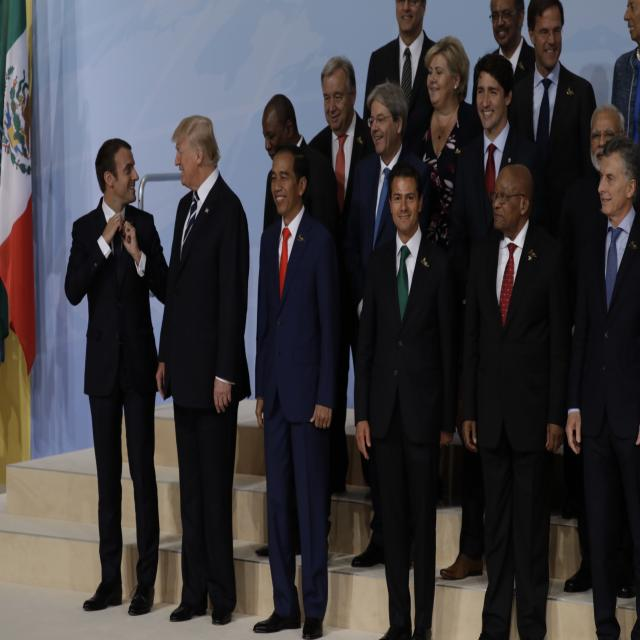body: (453, 160, 576, 640), (438, 49, 548, 584), (60, 133, 176, 618), (246, 140, 348, 640), (353, 161, 458, 640), (155, 115, 251, 624), (343, 81, 434, 570), (561, 126, 640, 640), (253, 93, 339, 559), (560, 102, 637, 600), (308, 54, 377, 499), (506, 1, 599, 220), (406, 36, 482, 258), (362, 0, 438, 158), (471, 0, 537, 109), (607, 0, 640, 142)
